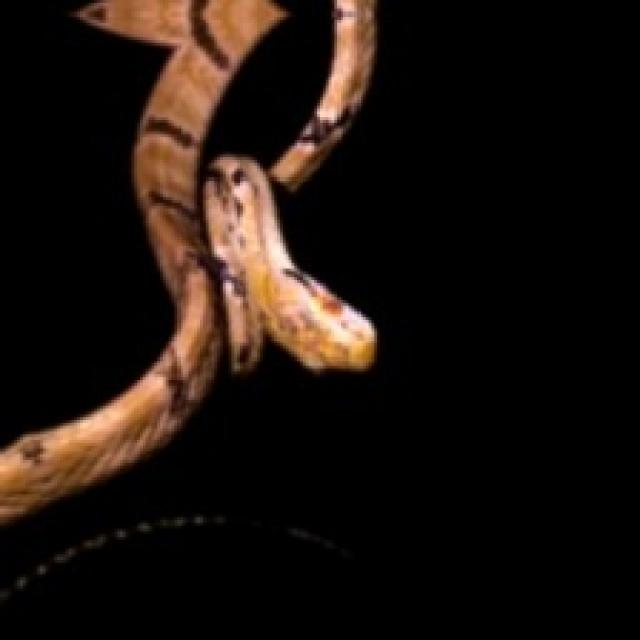dog-toothed cat snake: (0, 0, 374, 520)
